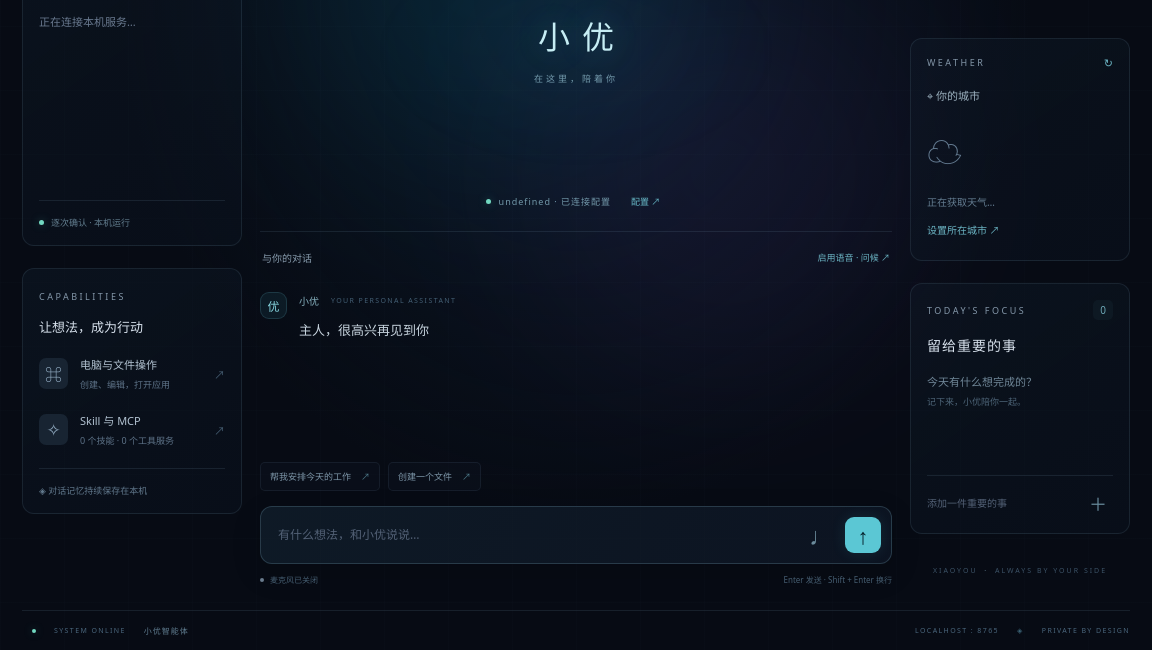
interrupts thinking, retains partial text and returns to send mode
(page scrolled)
Expected: the text "主人，很高兴再见到你" is shown, [299,320,429,338]
Expected: the button named "发送消息" is enabled, [845,517,881,553]
Type "写一段内容" into the text box named "给小优发送消息" at point(536, 535), box [278,517,795,553]
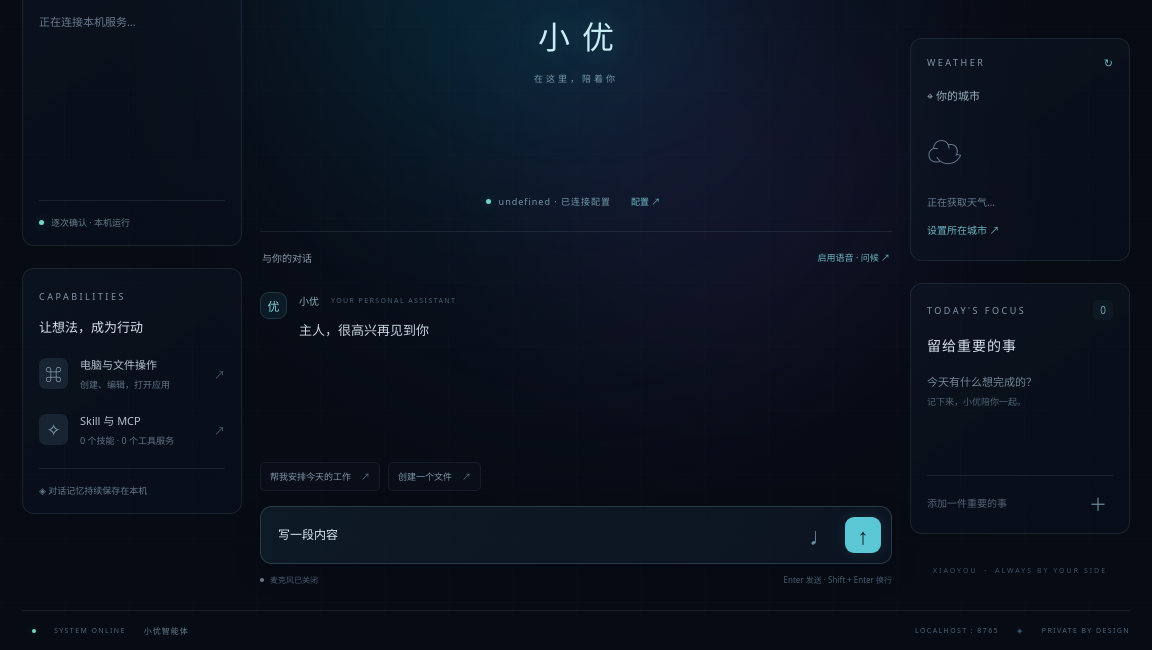
Click the button named "发送消息" at point(863, 535), box [845,517,881,553]
(page scrolled)
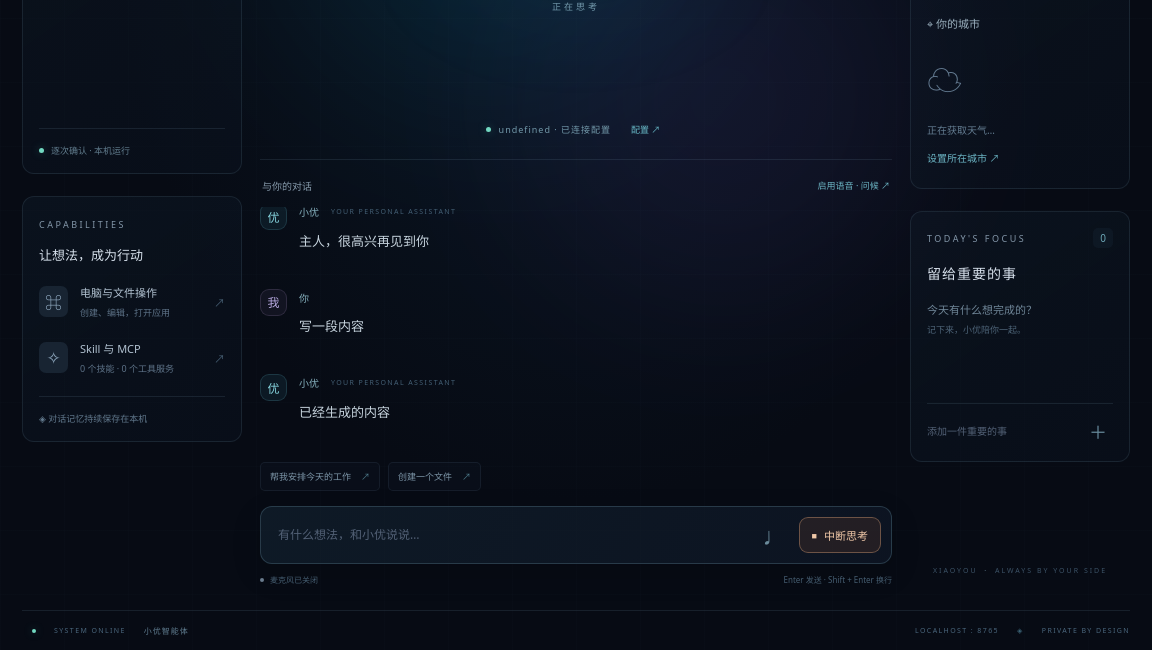
Now the text "已经生成的内容" is shown, box [299,403,390,421]
Now the button "■ 中断思考" is shown
Click the button "■ 中断思考" at point(840, 535), box [799,517,881,553]
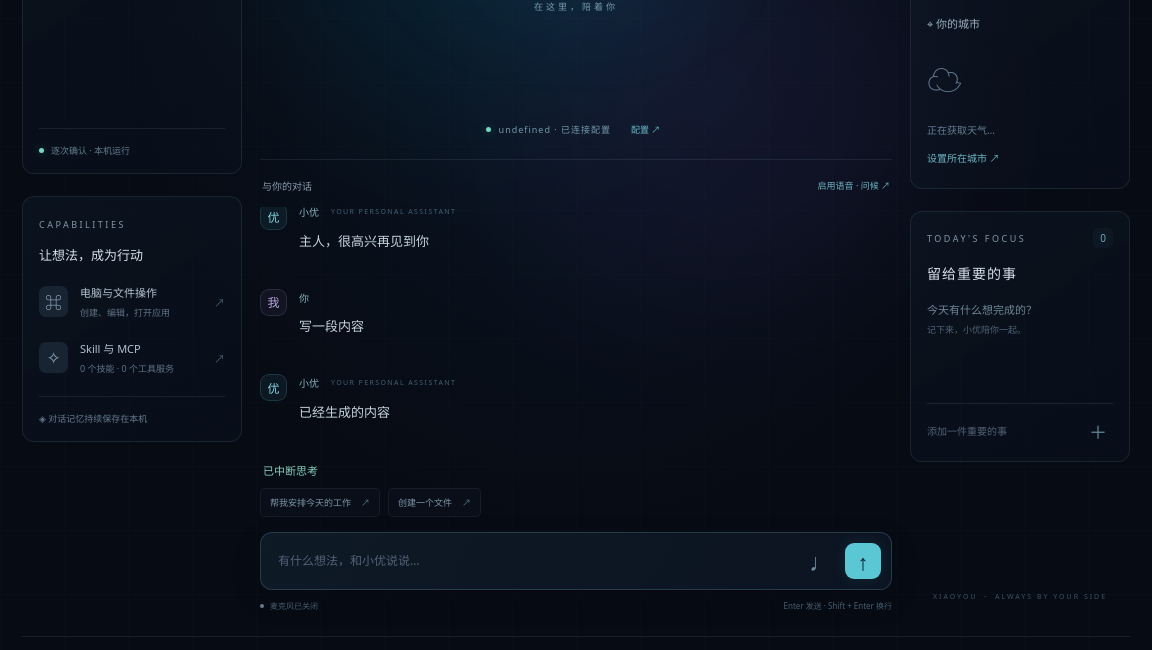
Now the text "已经生成的内容" is shown, box [299,403,390,421]
Now the button named "发送消息" is shown, box [845,543,881,579]
Now the message reads "已中断思考", box [263,463,318,478]
